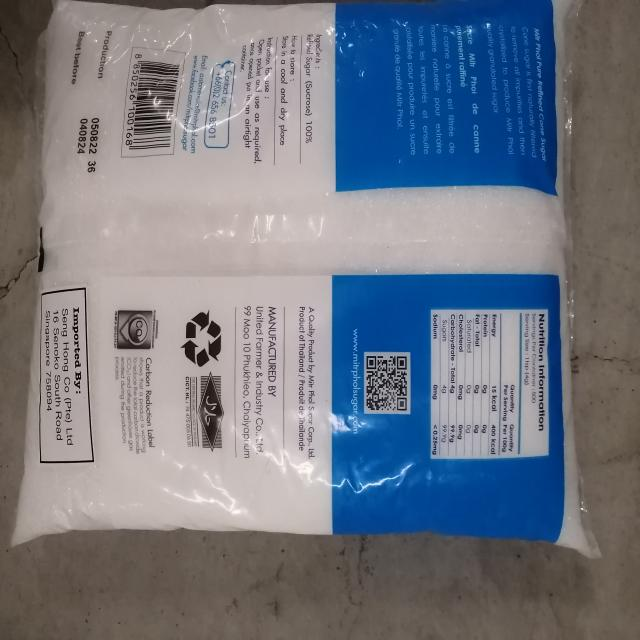object_name: (40, 9, 574, 538)
